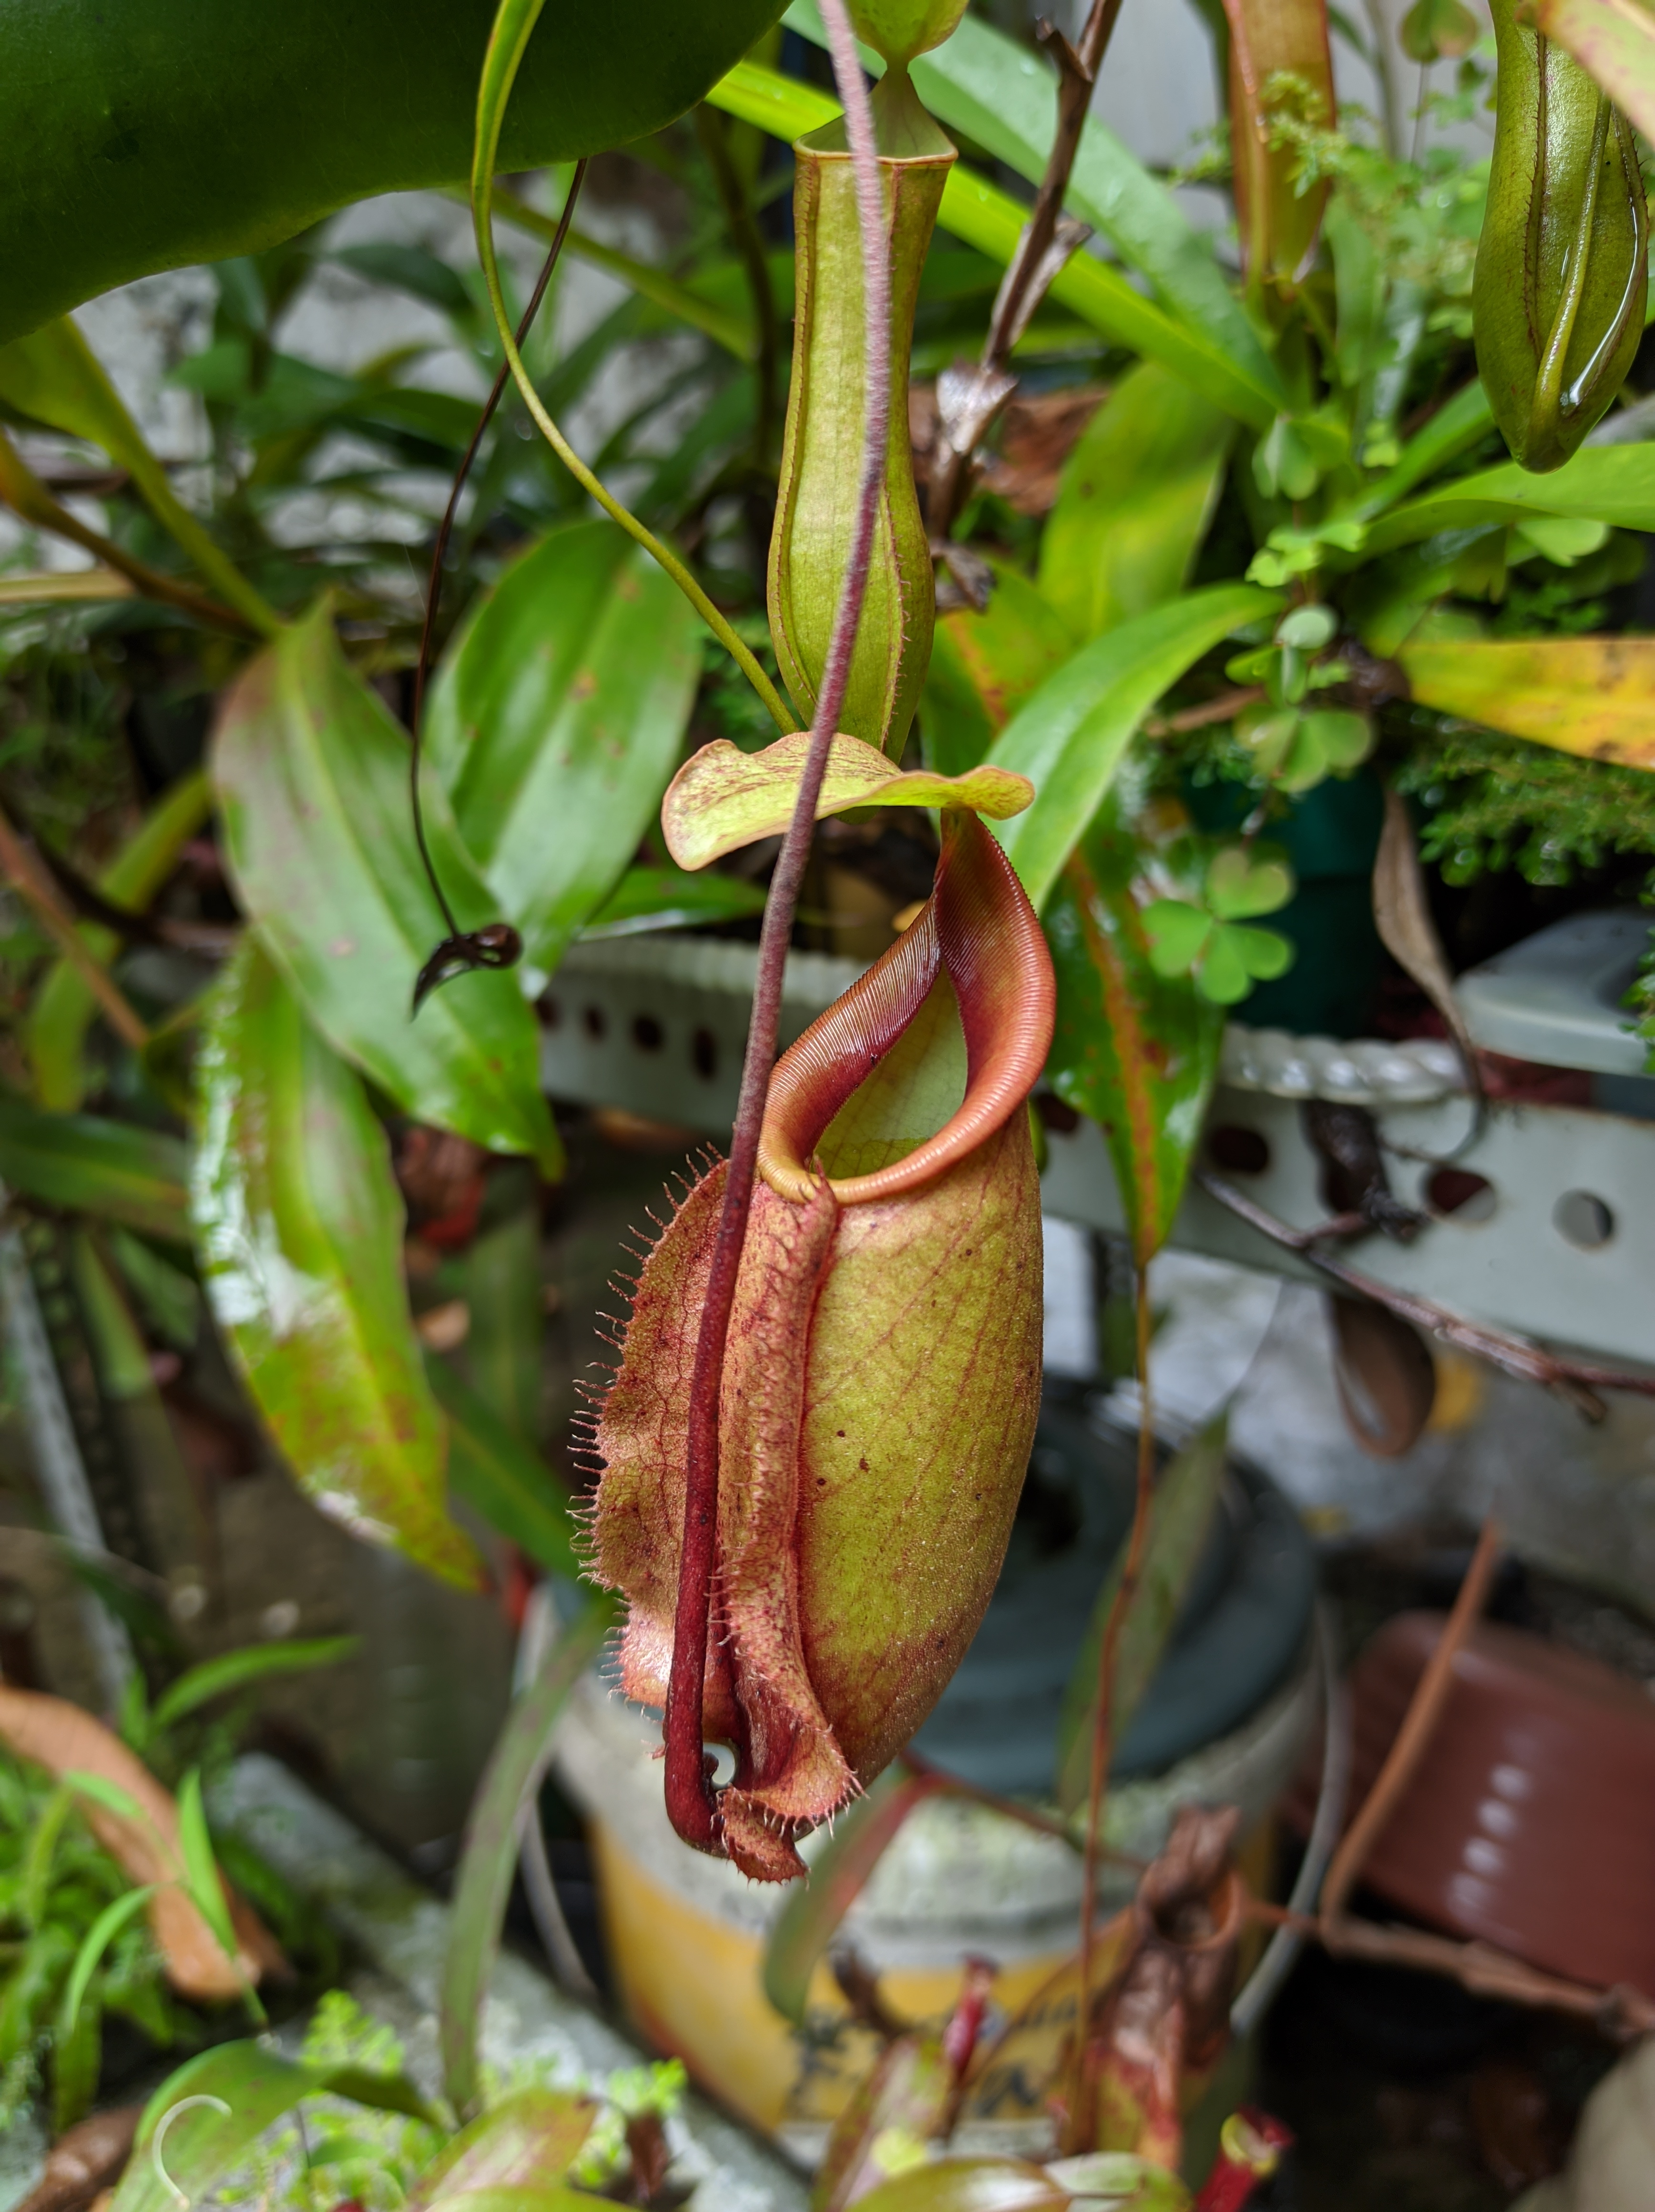Maxima: (501, 711, 1154, 1906)
